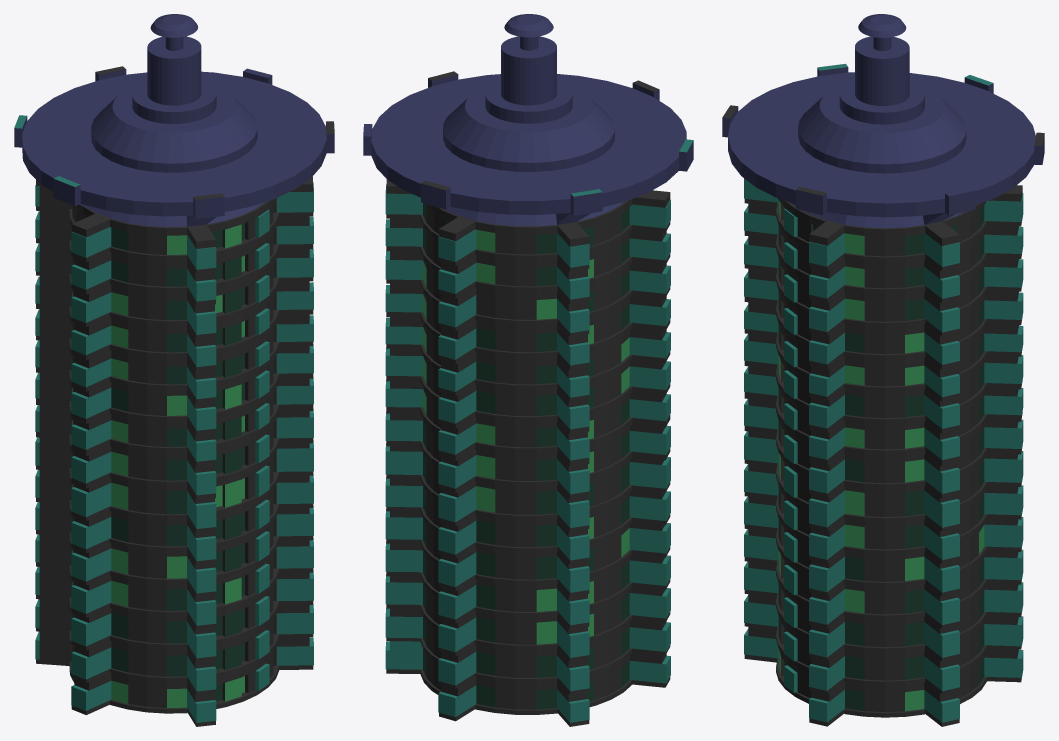
File: PREDIO_1FINAL_.fbx
The picture shows the model from 3 angles, left to right: view 1: azimuth 30°, elevation 25°; view 2: azimuth 150°, elevation 25°; view 3: azimuth 270°, elevation 25°; orthographic projection.
Visible parts, largest first — view 1: Cylinder.001; view 2: Cylinder.001; view 3: Cylinder.001.
Boxes of the visible parts, x1,y1,x2,y2 form: Cylinder.001: (14,14,334,726); Cylinder.001: (363,14,693,726); Cylinder.001: (722,14,1044,726).
Bounding box in the file's own units: 486 × 1100 × 493.
